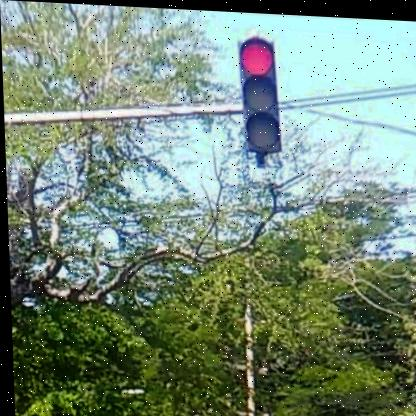Traffic Light -Red-: (240, 37, 280, 150)
